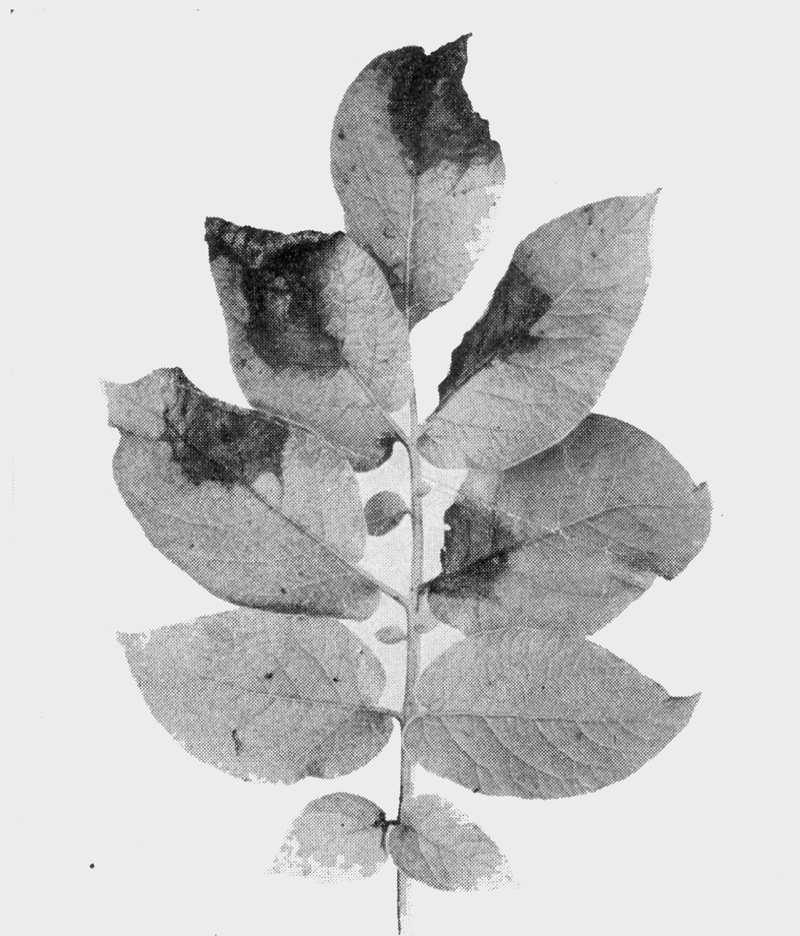Potato leaf late blight: (98, 361, 391, 633), (413, 184, 665, 464), (433, 403, 711, 652), (200, 208, 419, 468), (319, 30, 506, 318)
